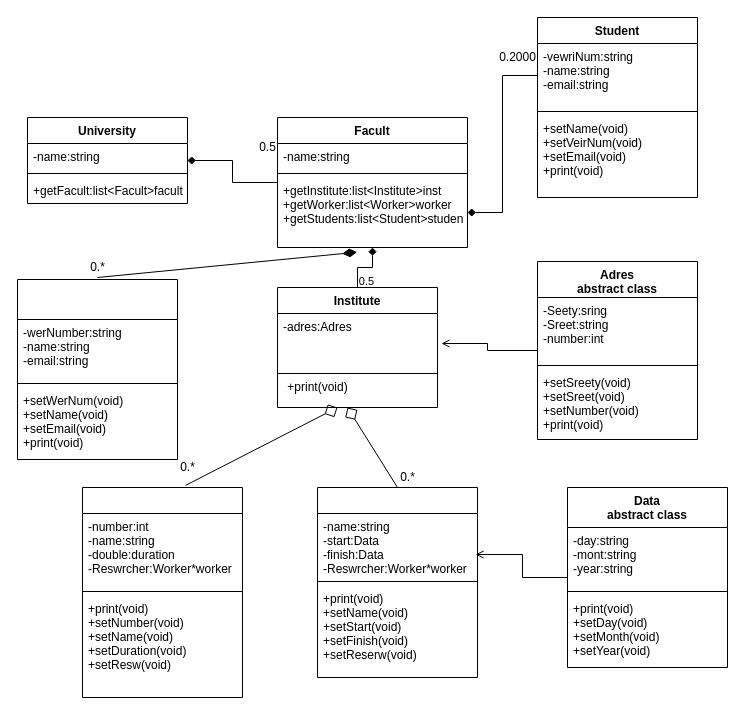
This 745x718 diagram has some shape labels left out. Each missing label, with the box of its shape:
Kurs: (82, 486, 242, 698)
Project: (316, 486, 478, 678)
Worker: (16, 278, 178, 460)
